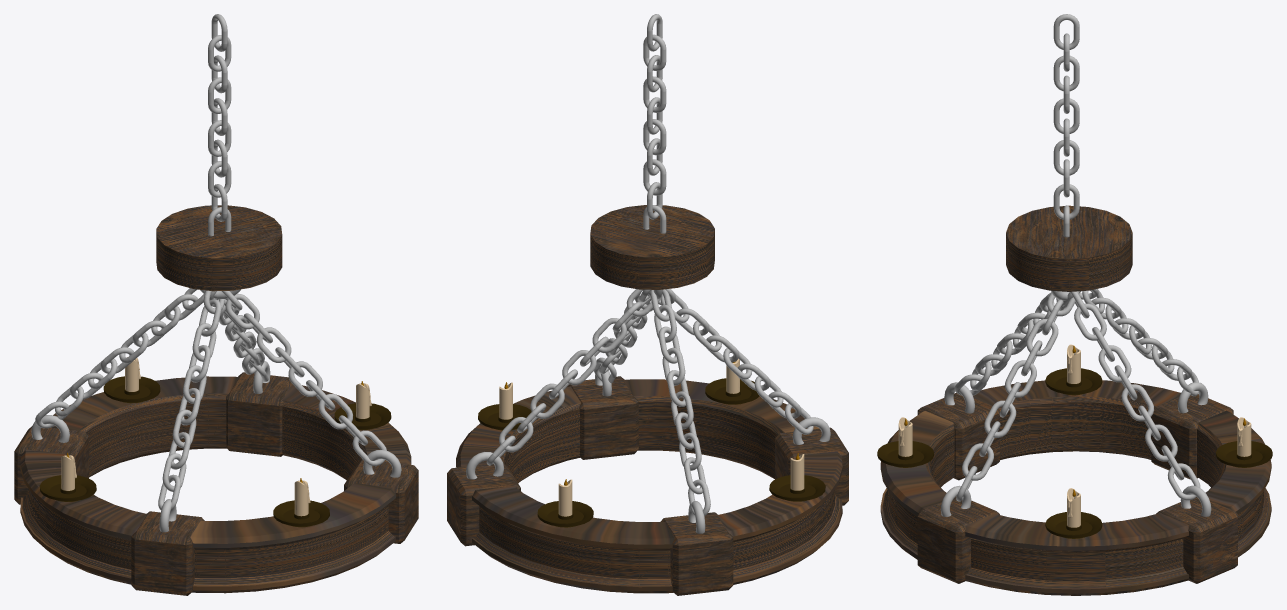
Rendered from chandelier.fbx.
The picture shows the model from 3 angles, left to right: view 1: azimuth 30°, elevation 25°; view 2: azimuth 150°, elevation 25°; view 3: azimuth 270°, elevation 25°; orthographic projection.
Parts seen in each view (by area): view 1: pCylinder1, pCylinder5, pasted__group25_pasted__group23_pasted__pTorus5 (×2), pasted__pCube1, pasted__pasted__pasted__pCube1, group25_pasted__group23_pasted__pTorus5, pasted__pasted__group25_pasted__group23_pasted__pTorus5, pasted__pasted__pasted__pasted__pasted__pCylinder7 (×2), pasted__pasted__pCube1, pCube1, pasted__pasted__pasted__group25_pasted__group23_pasted__pTor, pasted__pasted__pasted__pasted__pasted__pasted__pCylinder7 (+2 smaller); view 2: pCylinder1, pCylinder5, pasted__group25_pasted__group23_pasted__pTorus5 (×2), pCube1, pasted__pasted__pCube1, group25_pasted__group23_pasted__pTorus5, pasted__pasted__group25_pasted__group23_pasted__pTorus5, pasted__pasted__pasted__group25_pasted__group23_pasted__pTor, pasted__pasted__pasted__pCube1, pasted__pasted__pasted__pasted__pasted__pCylinder7 (×2), pasted__pCube1, pasted__pasted__pasted__pasted__pasted__pasted__pCylinder7 (+3 smaller); view 3: pCylinder1, pCylinder5, pasted__group25_pasted__group23_pasted__pTorus5 (×2), pasted__pasted__pasted__pCube1, pasted__pasted__pCube1, pasted__pasted__pasted__group25_pasted__group23_pasted__pTor, group25_pasted__group23_pasted__pTorus5, pasted__pasted__pasted__pasted__pasted__pCylinder7 (×2), pCube1, pasted__pCube1, pasted__pasted__group25_pasted__group23_pasted__pTorus5, pasted__pasted__pasted__pasted__pasted__pasted__pCylinder7 (+1 smaller).
Boxes of the visible parts, <box> form: pCylinder1: <box>20,376,411,593</box>; pCylinder5: <box>156,205,282,291</box>; pasted__group25_pasted__group23_pasted__pTorus5 (×2): <box>158,290,386,510</box>; pasted__pCube1: <box>131,511,204,595</box>; pasted__pasted__pasted__pCube1: <box>225,372,292,456</box>; group25_pasted__group23_pasted__pTorus5: <box>208,14,231,236</box>; pasted__pasted__group25_pasted__group23_pasted__pTorus5: <box>35,288,205,428</box>; pasted__pasted__pasted__pasted__pasted__pCylinder7 (×2): <box>39,453,329,527</box>; pasted__pasted__pCube1: <box>344,459,418,543</box>; pCube1: <box>14,426,88,504</box>; pasted__pasted__pasted__group25_pasted__group23_pasted__pTor: <box>209,291,268,381</box>; pasted__pasted__pasted__pasted__pasted__pasted__pCylinder7: <box>103,357,160,403</box>; pCylinder1: <box>456,379,842,593</box>; pCylinder5: <box>590,205,714,289</box>; pasted__group25_pasted__group23_pasted__pTorus5 (×2): <box>594,288,813,434</box>; pCube1: <box>660,512,733,595</box>; pasted__pasted__pCube1: <box>567,376,638,459</box>; group25_pasted__group23_pasted__pTorus5: <box>643,14,666,233</box>; pasted__pasted__group25_pasted__group23_pasted__pTorus5: <box>650,289,710,516</box>; pasted__pasted__pasted__group25_pasted__group23_pasted__pTor: <box>486,289,660,465</box>; pasted__pasted__pasted__pCube1: <box>447,463,520,546</box>; pasted__pasted__pasted__pasted__pasted__pCylinder7 (×2): <box>705,358,825,501</box>; pasted__pCube1: <box>775,427,848,505</box>; pasted__pasted__pasted__pasted__pasted__pasted__pCylinder7: <box>537,479,593,527</box>; pCylinder1: <box>880,380,1271,595</box>; pCylinder5: <box>1006,205,1132,291</box>; pasted__group25_pasted__group23_pasted__pTorus5 (×2): <box>954,291,1078,501</box>; pasted__pasted__pasted__pCube1: <box>1156,497,1237,583</box>; pasted__pasted__pCube1: <box>917,496,999,583</box>; pasted__pasted__pasted__group25_pasted__group23_pasted__pTor: <box>1071,291,1200,500</box>; group25_pasted__group23_pasted__pTorus5: <box>1053,14,1079,237</box>; pasted__pasted__pasted__pasted__pasted__pCylinder7 (×2): <box>877,344,1102,467</box>; pCube1: <box>1151,394,1233,479</box>; pasted__pCube1: <box>917,392,999,480</box>; pasted__pasted__group25_pasted__group23_pasted__pTorus5: <box>1079,288,1198,396</box>; pasted__pasted__pasted__pasted__pasted__pasted__pCylinder7: <box>1216,417,1272,467</box>.
Bounding box in the file's own units: 13.01 × 18.14 × 12.97.
